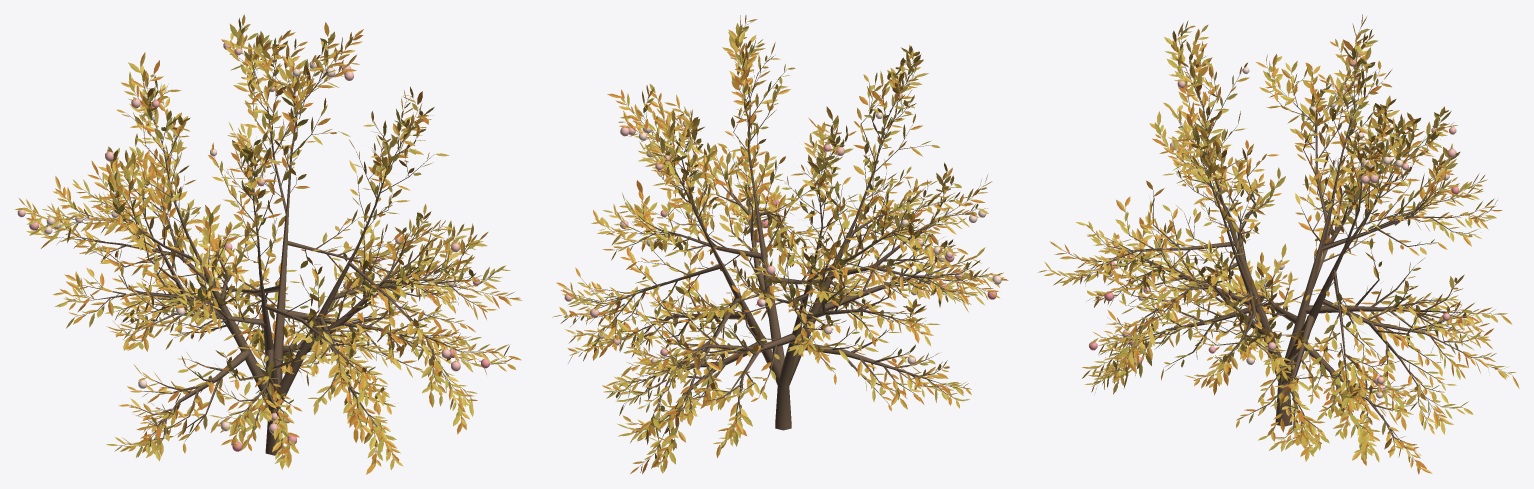
The model's file is pecher_blanche_automne.glb.
The picture shows the model from 3 angles, left to right: view 1: azimuth 30°, elevation 25°; view 2: azimuth 150°, elevation 25°; view 3: azimuth 270°, elevation 25°; orthographic projection. The views are drawn at different scales.
Parts seen in each view (by area): view 1: Pecher_Feuillage, Pecher_Tronc, Pecher_Peches; view 2: Pecher_Feuillage, Pecher_Tronc, Pecher_Peches; view 3: Pecher_Feuillage, Pecher_Tronc, Pecher_Peches.
Part boxes in pixels (x1,y1,x2,y2): Pecher_Feuillage: (15,14,522,474); Pecher_Tronc: (26,27,510,460); Pecher_Peches: (17,43,489,451); Pecher_Feuillage: (552,15,1008,473); Pecher_Tronc: (564,22,992,465); Pecher_Peches: (564,93,1001,364); Pecher_Feuillage: (1038,14,1519,474); Pecher_Tronc: (1049,25,1511,462); Pecher_Peches: (1089,50,1466,398).
Bounding box in the file's own units: 5.9 × 5.29 × 6.02.
